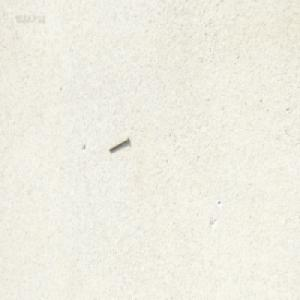Bolt: (108, 134, 129, 152)
